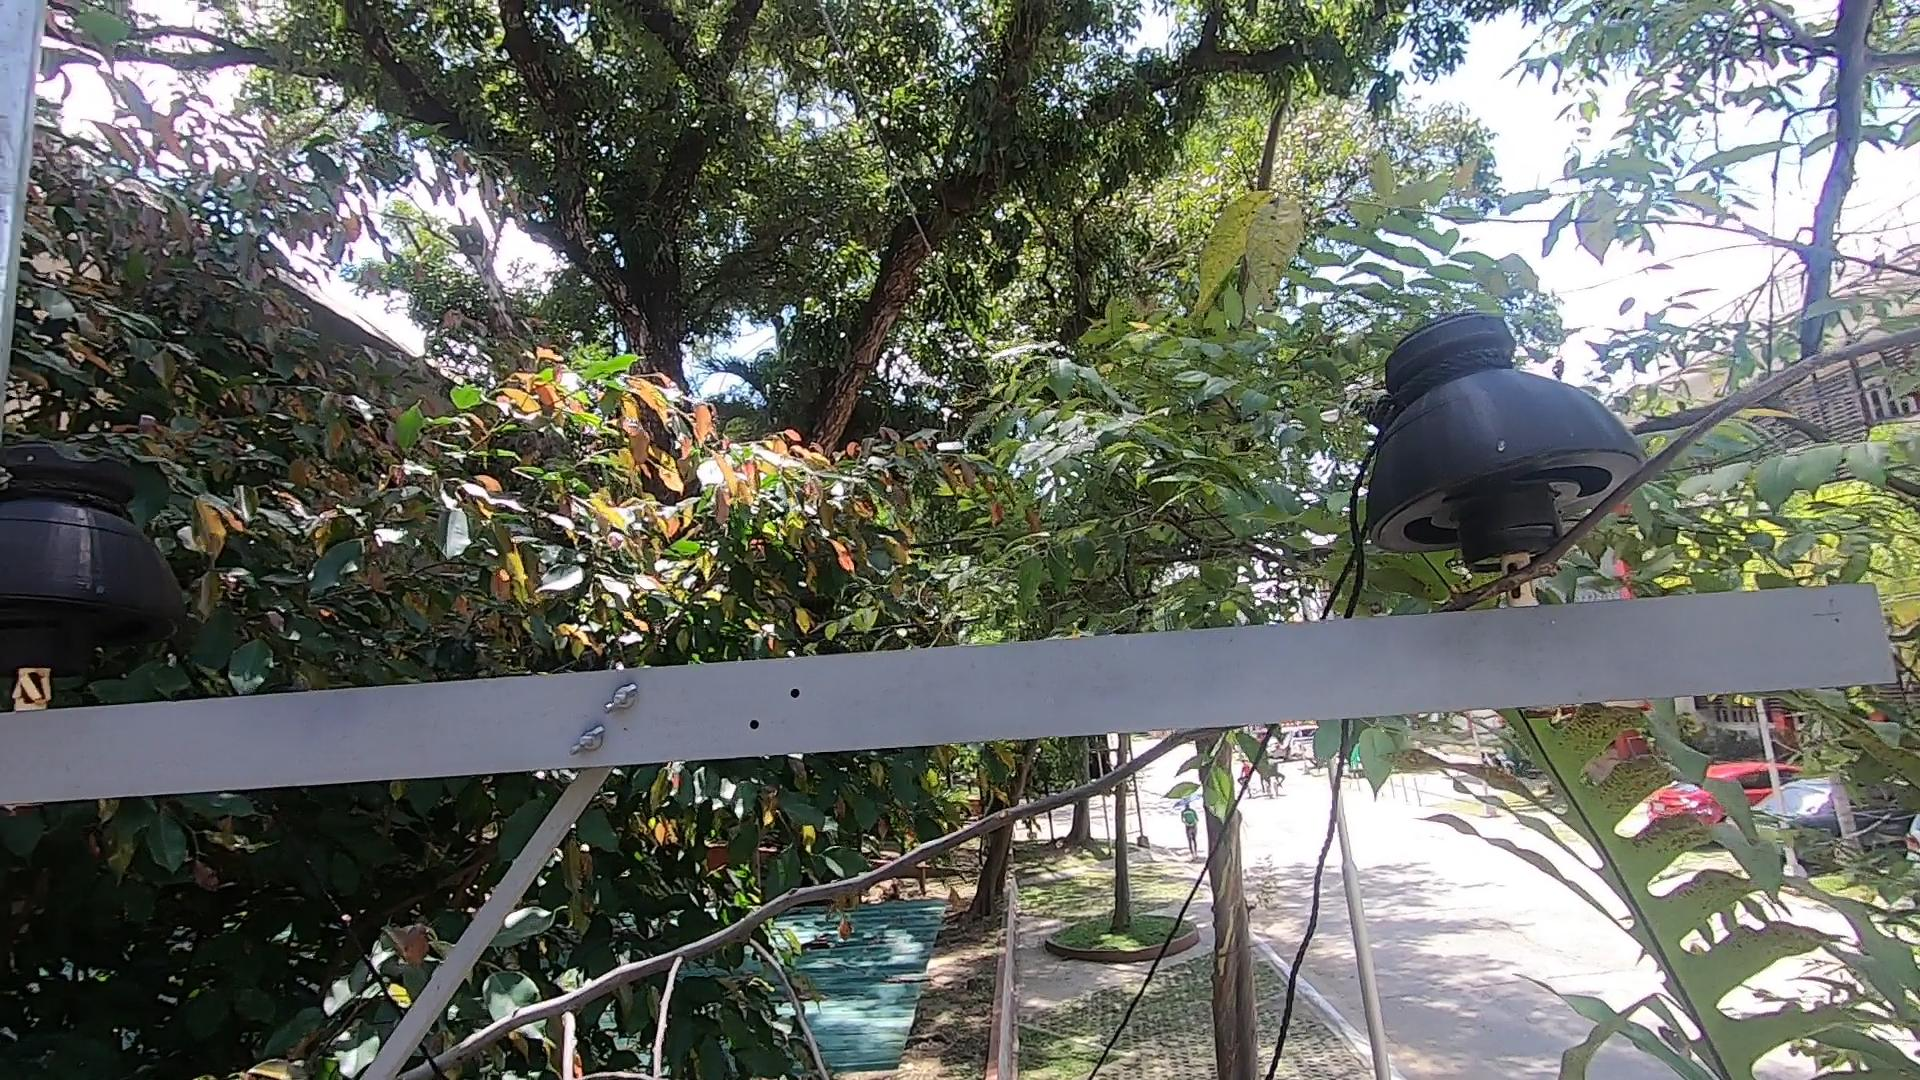tree branch: (371, 323, 1919, 1077)
